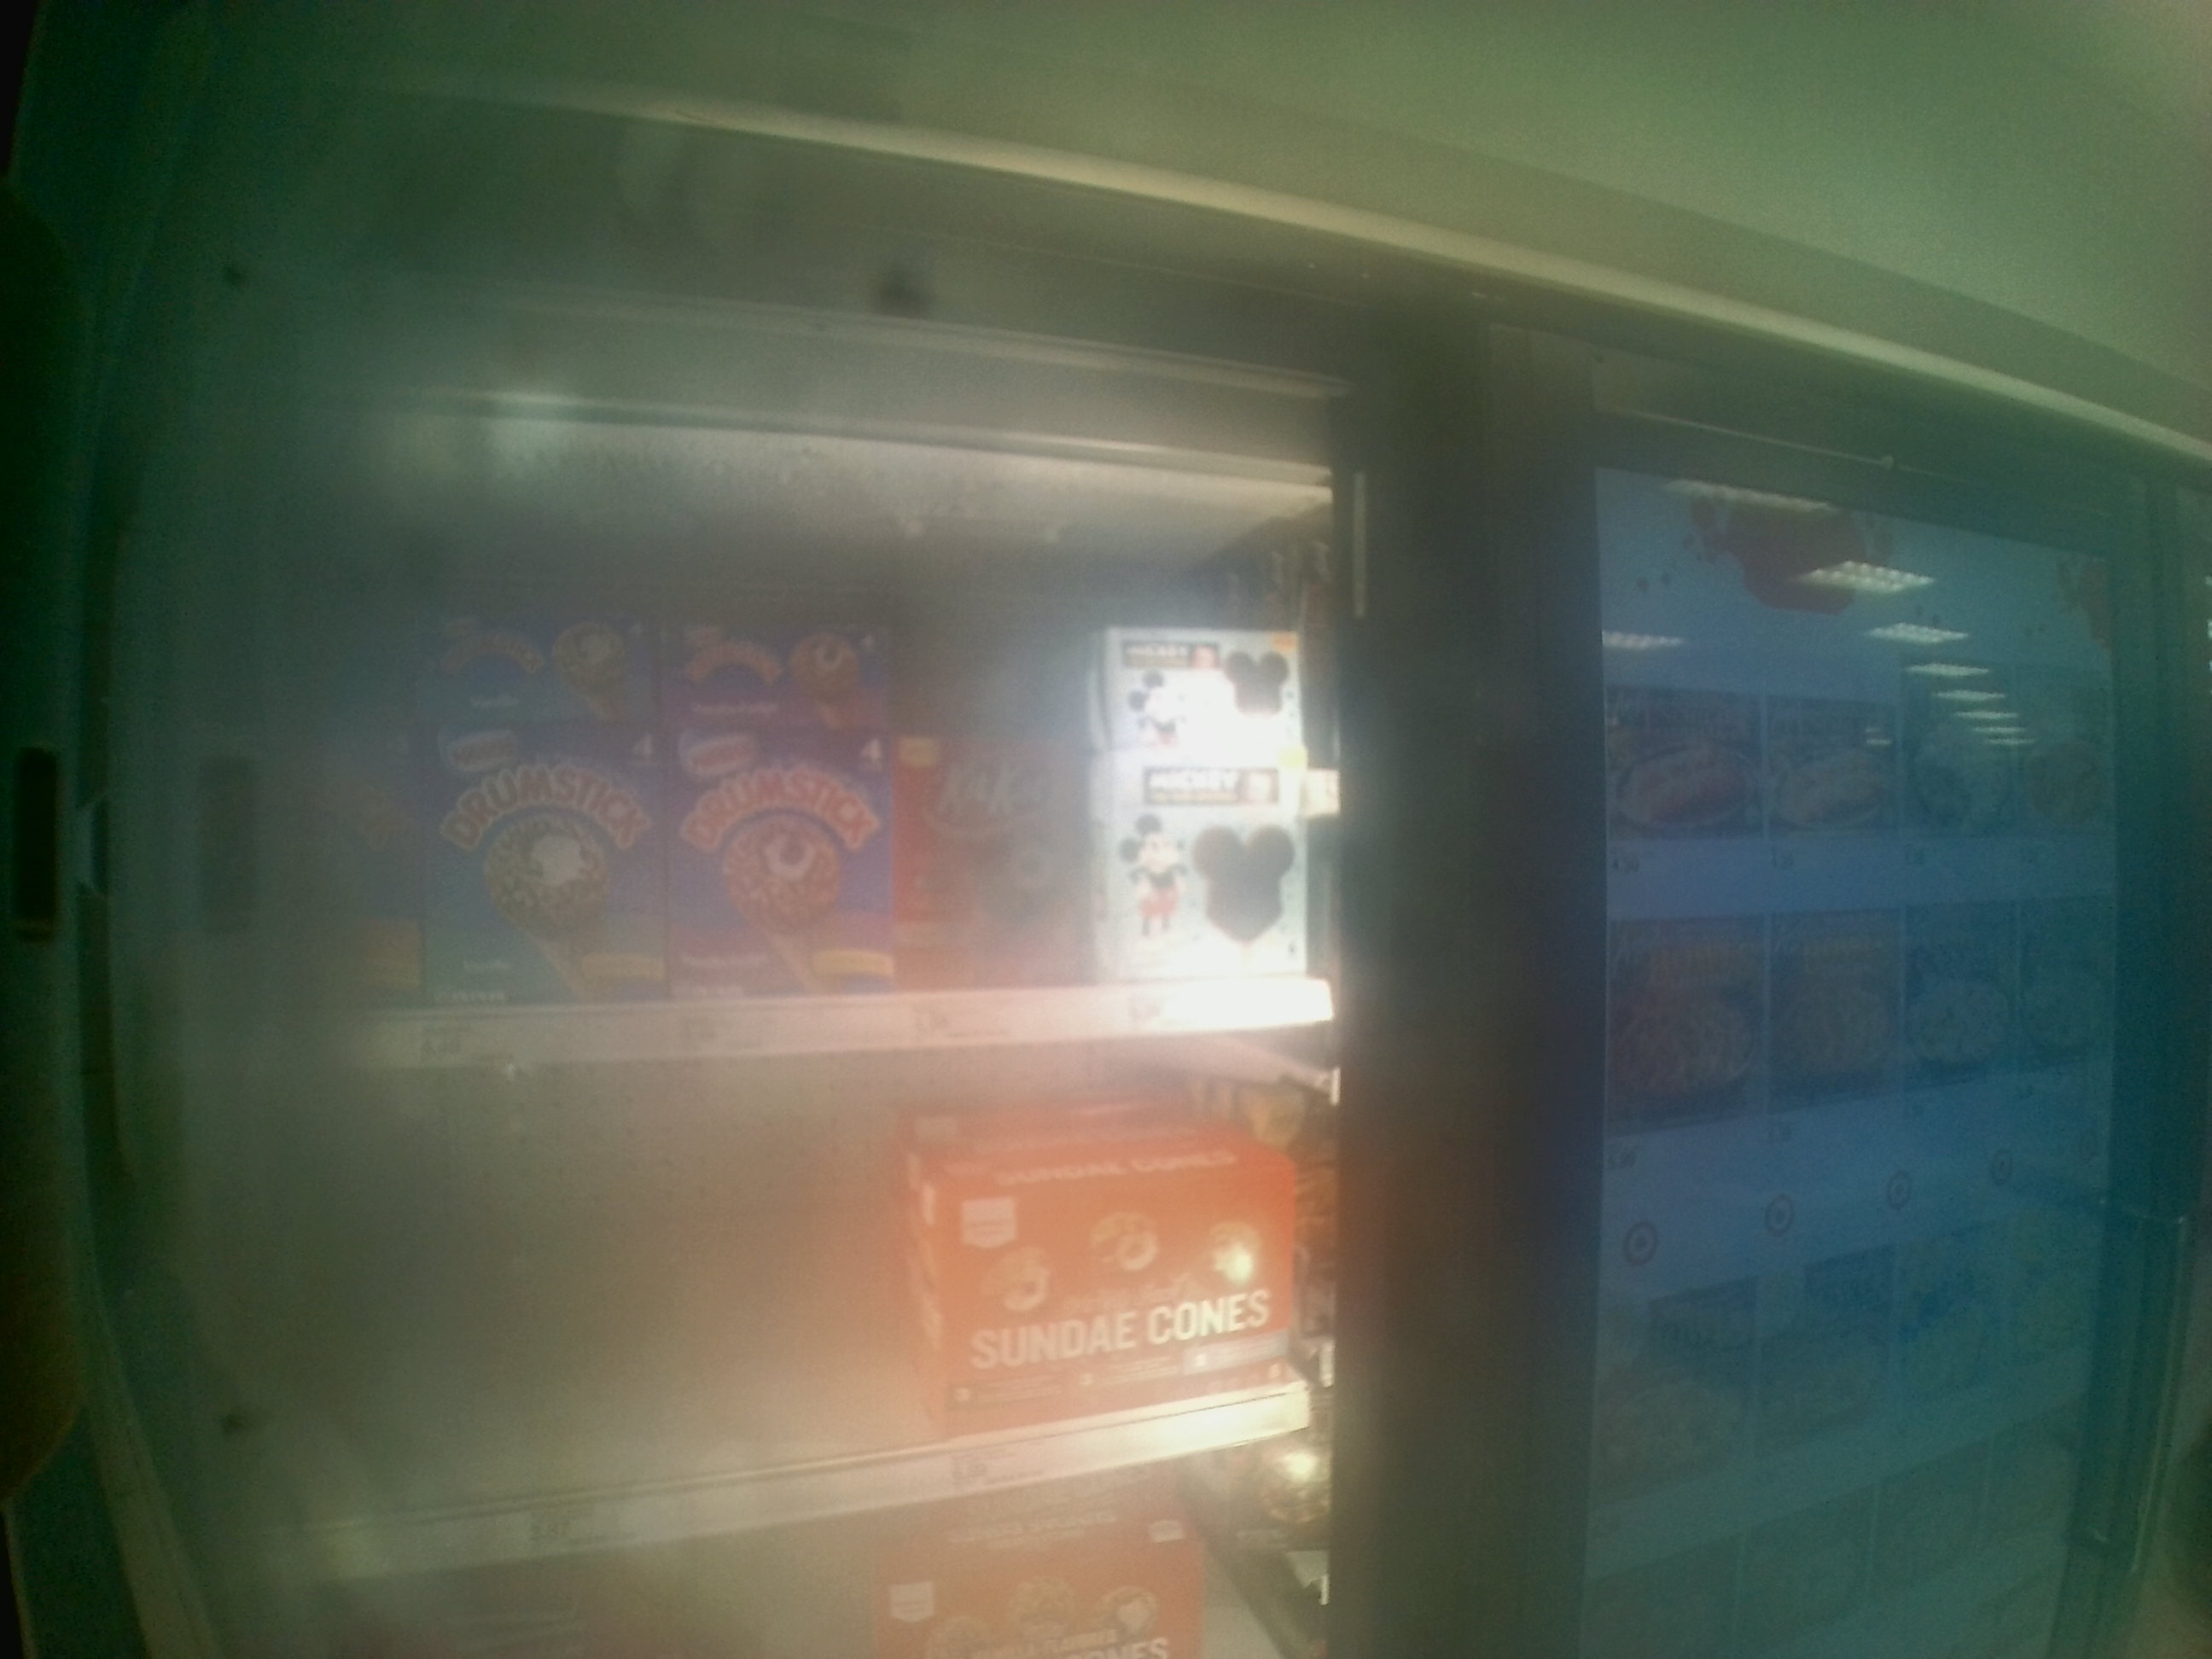frozen-food-shelf: (209, 533, 1378, 1086)
